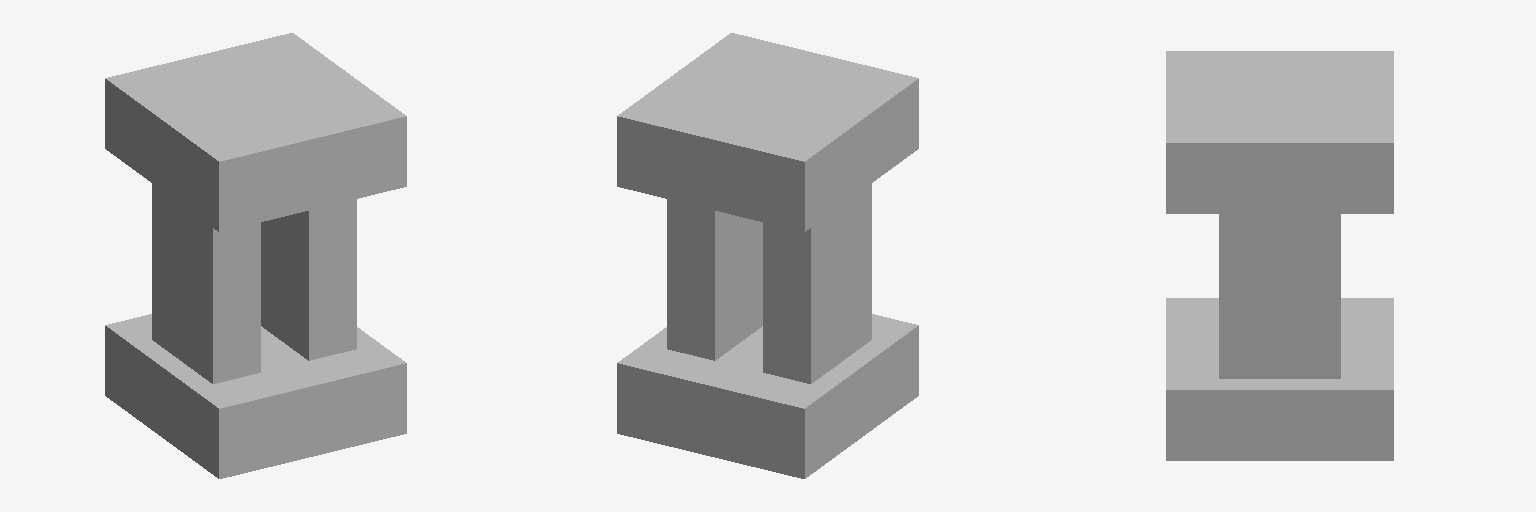
The model's file is wallSingle.obj.
The picture shows the model from 3 angles: view 1: azimuth 30°, elevation 25°; view 2: azimuth 150°, elevation 25°; view 3: azimuth 270°, elevation 25°; orthographic projection.
Parts seen in each view (by area): view 1: mesh01; view 2: mesh01; view 3: mesh01.
Part boxes in pixels (x1,y1,x2,y2): mesh01: (105,33,406,478); mesh01: (617,33,918,478); mesh01: (1166,51,1393,460).
Size of the model in its own units: 0.7821 by 1.27 by 0.8255.